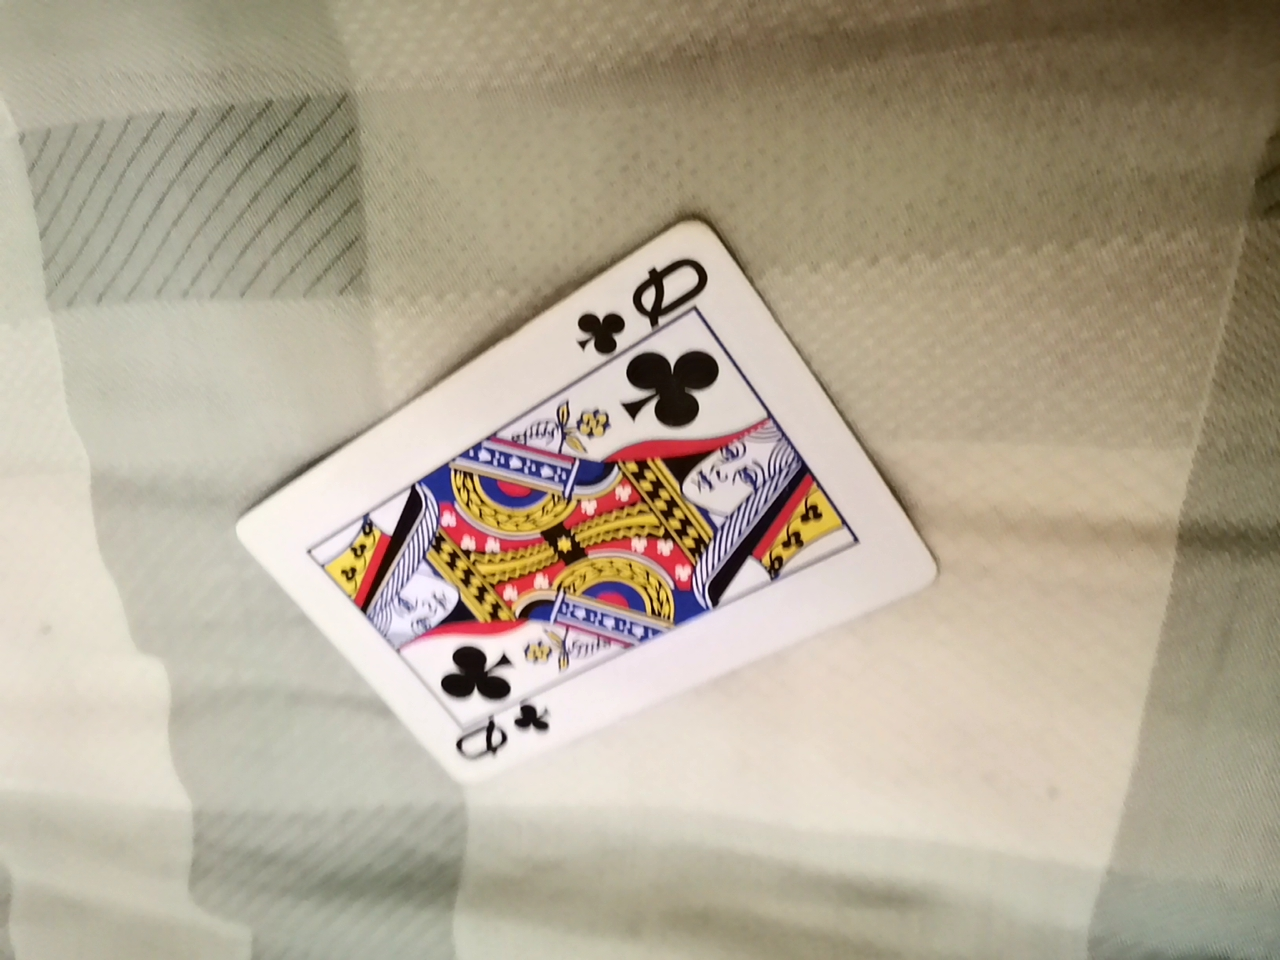mh q: (236, 230, 944, 810)
